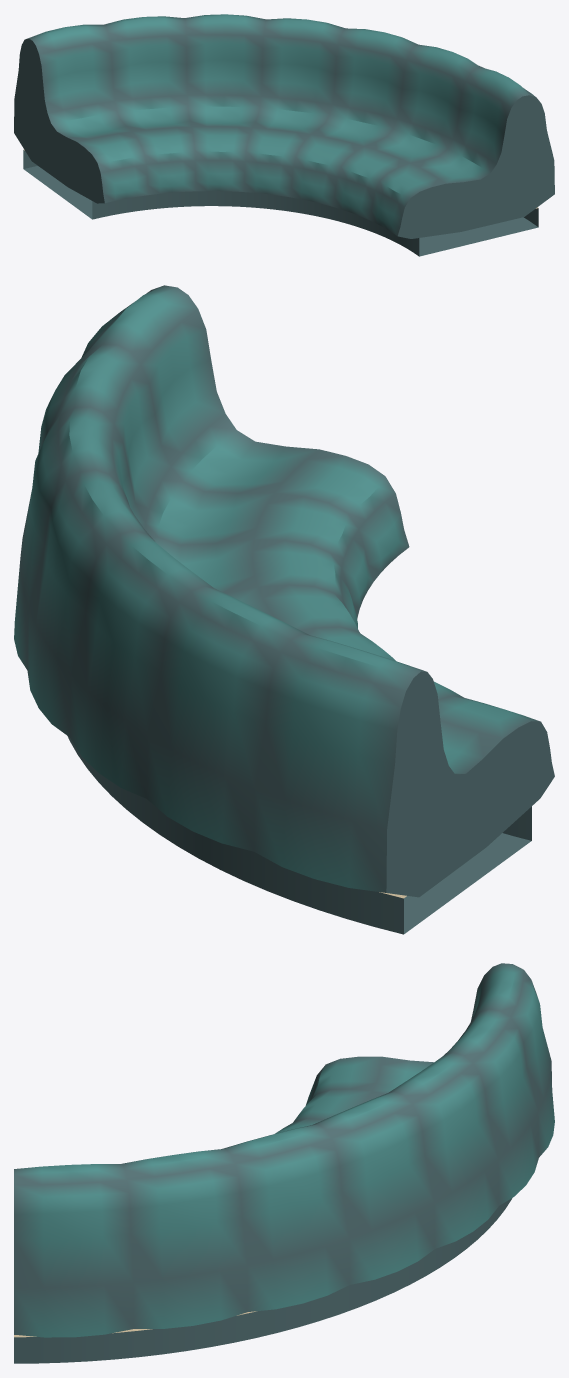
The model's file is KC32__AD_Int_Sofa_Curved_Red.glb.
The picture shows the model from 3 angles, top to bottom: view 1: azimuth 30°, elevation 25°; view 2: azimuth 150°, elevation 25°; view 3: azimuth 270°, elevation 25°; orthographic projection. The views are drawn at different scales.
Visible parts, largest first — view 1: KC32_CORPS__AD_Int_Sofa_Curved_Red; view 2: KC32_CORPS__AD_Int_Sofa_Curved_Red; view 3: KC32_CORPS__AD_Int_Sofa_Curved_Red.
Boxes of the visible parts, <box> form: KC32_CORPS__AD_Int_Sofa_Curved_Red: <box>14,14,554,256</box>; KC32_CORPS__AD_Int_Sofa_Curved_Red: <box>14,285,554,934</box>; KC32_CORPS__AD_Int_Sofa_Curved_Red: <box>14,963,554,1363</box>.
Size of the model in its own units: 2.59 by 0.9963 by 2.59.
